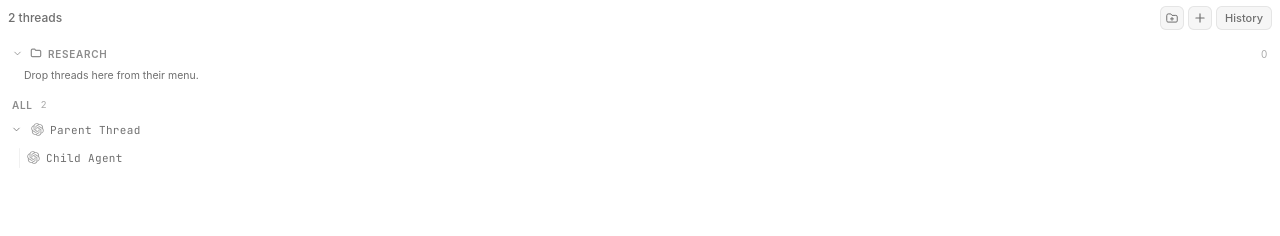
Test case: SidebarAgentsPanel folders › moves a root session and its hierarchy from the context submenu
The image size is (1280, 236).
Right-click the button titled "Parent Thread" at (74, 130), box x1=8 y1=122 x2=141 y2=138
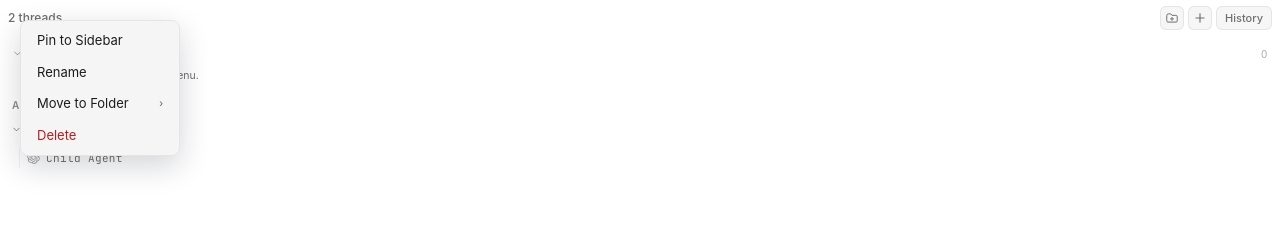
Click the button "Move to Folder ›" at (100, 104), box x1=25 y1=88 x2=175 y2=120
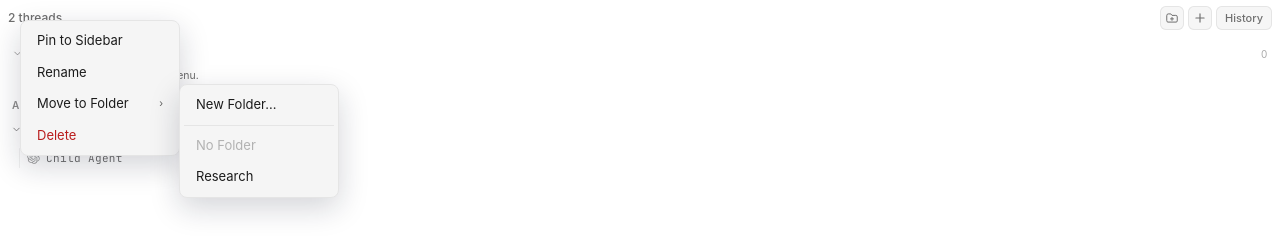
Click the button "Research" at (259, 177), box x1=184 y1=161 x2=334 y2=192
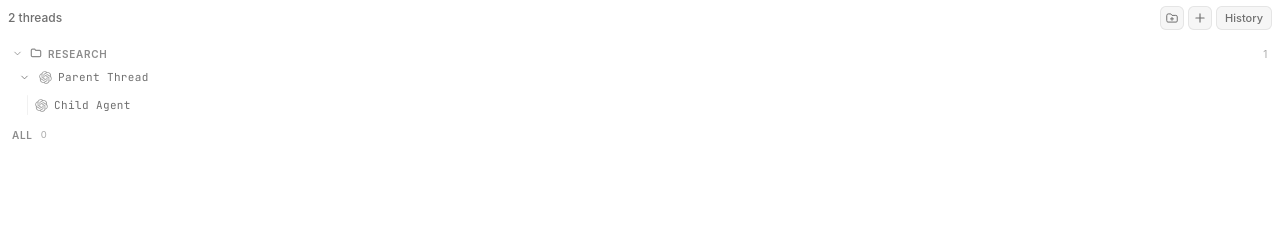
Expected: the element showing "Research 1 Parent Thread Child Agent" is shown, x1=4 y1=40 x2=1276 y2=120
